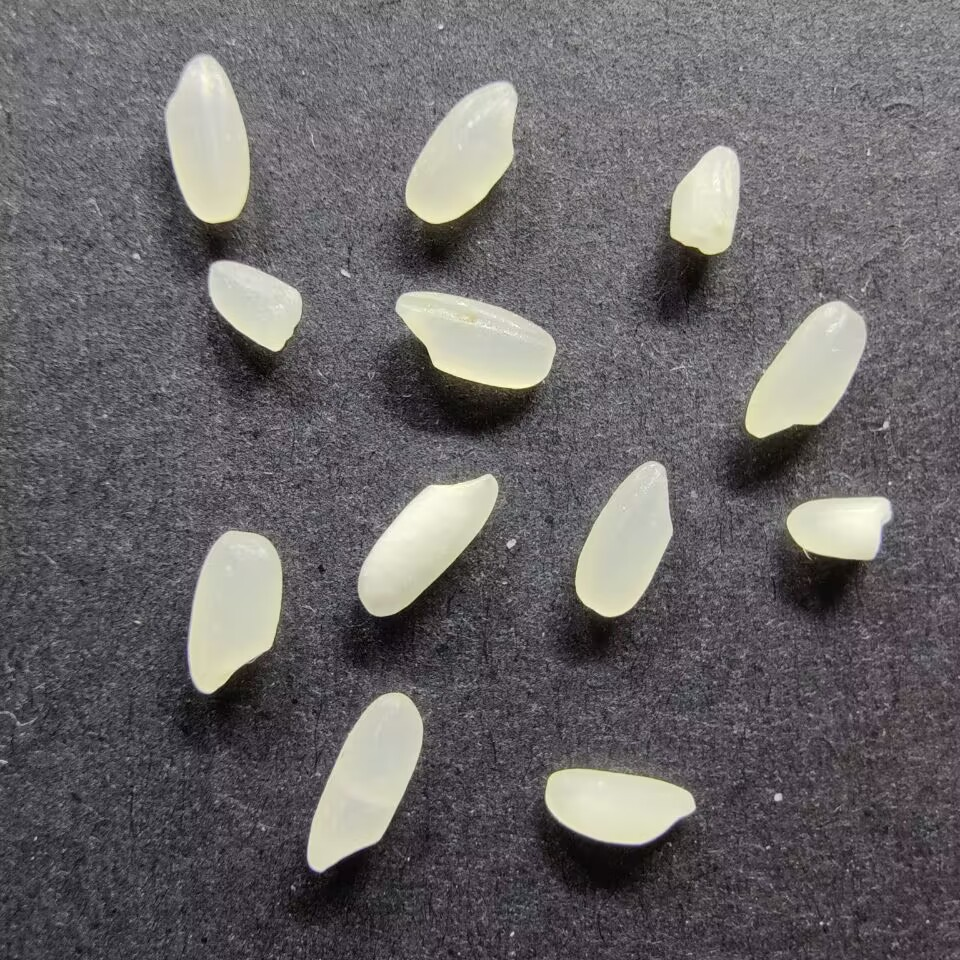broken: (207, 257, 305, 352), (664, 144, 742, 254), (783, 494, 894, 564)
rice: (304, 692, 425, 874), (355, 472, 500, 618), (744, 300, 868, 439), (401, 78, 518, 225), (572, 458, 676, 620), (393, 290, 557, 391), (186, 528, 283, 696), (162, 53, 251, 225), (542, 767, 698, 846)
